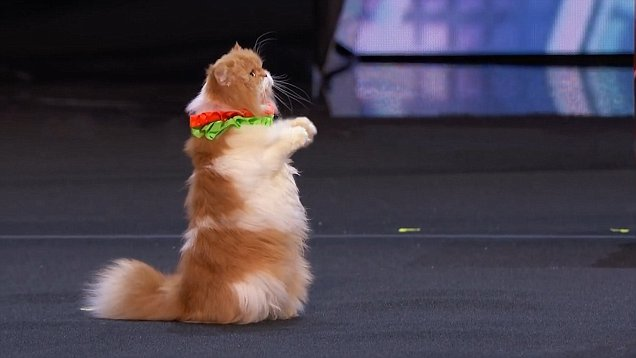cat: (85, 42, 323, 322)
